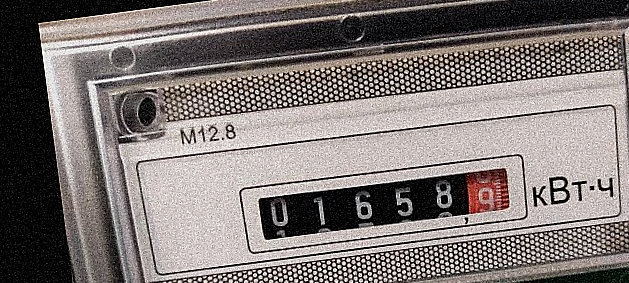0: (266, 195, 290, 227)
1: (309, 193, 330, 227)
5: (391, 183, 415, 217)
6: (350, 186, 375, 221)
8: (431, 175, 455, 210)
9: (472, 184, 497, 214)
screen: (227, 141, 536, 263)
